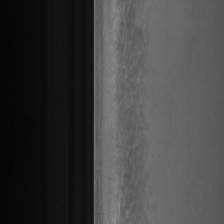silk_spot: (111, 13, 150, 214)
